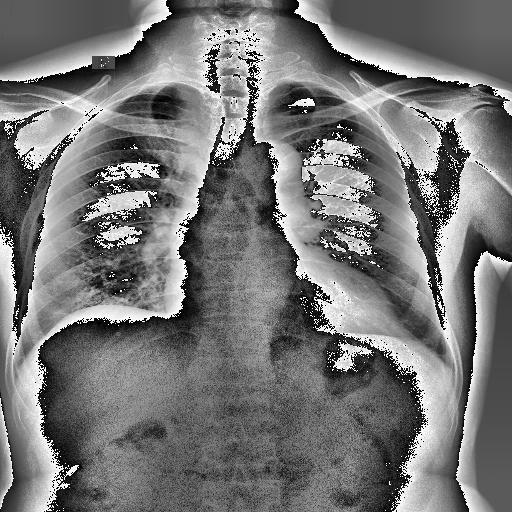0- Aortic enlargement: (237, 140, 302, 192), (250, 138, 306, 194), (242, 138, 300, 180)
11- Pleural thickening: (292, 82, 318, 86)
13- Pulmonary fibrosis: (55, 312, 82, 319)
3- Cardiomegaly: (162, 262, 400, 338), (162, 272, 402, 336), (162, 282, 398, 342)
